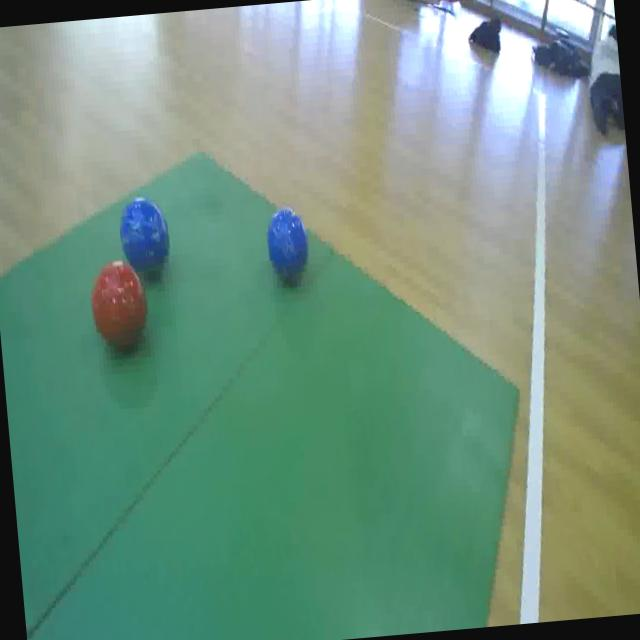blue_ball: (113, 188, 177, 290), (262, 201, 313, 286)
red_ball: (86, 255, 152, 356)
